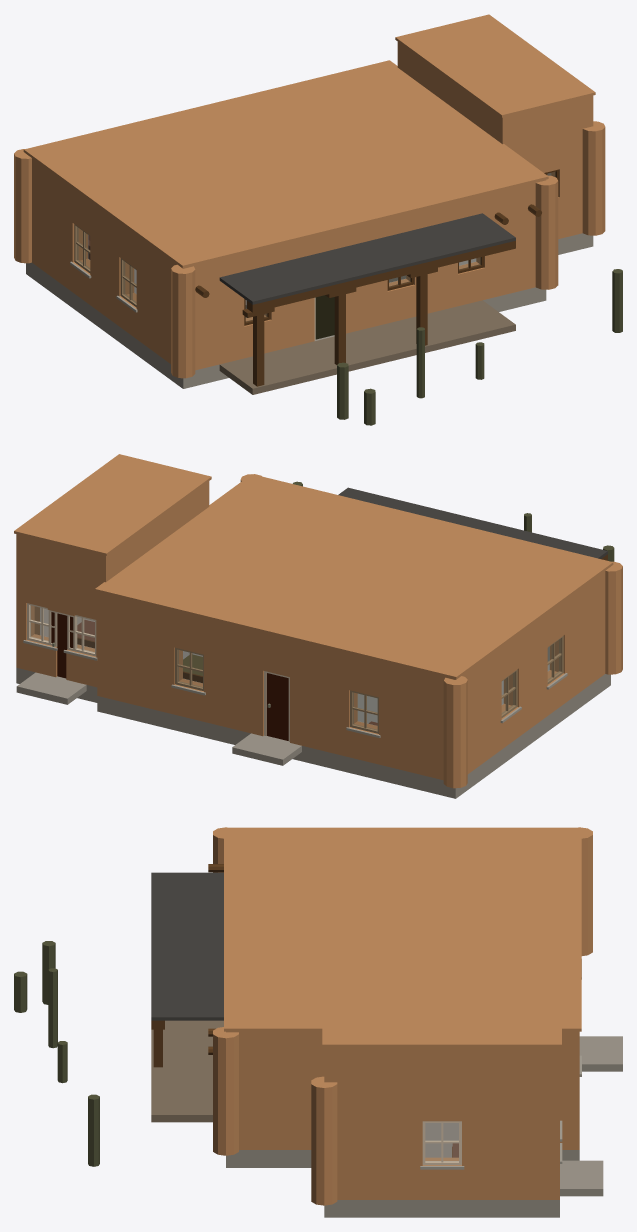
Rendered from adobe.glb.
The picture shows the model from 3 angles, top to bottom: view 1: azimuth 30°, elevation 25°; view 2: azimuth 150°, elevation 25°; view 3: azimuth 270°, elevation 25°; orthographic projection. The views are drawn at different scales.
Visible parts, largest first — view 1: LOD0, LEAF0; view 2: LOD0, LEAF1, LEAF2, FURN; view 3: LOD0.
Boxes of the visible parts, box(x1,y1,x2,y2) form: LOD0: box(14, 14, 622, 425); LEAF0: box(315, 295, 334, 339); LOD0: box(14, 454, 622, 798); LEAF1: box(266, 673, 288, 740); LEAF2: box(51, 612, 73, 678); FURN: box(77, 620, 377, 725); LOD0: box(14, 827, 622, 1217).
Size of what is drawn, in the model's own units: 15.7 by 4.88 by 15.49.
